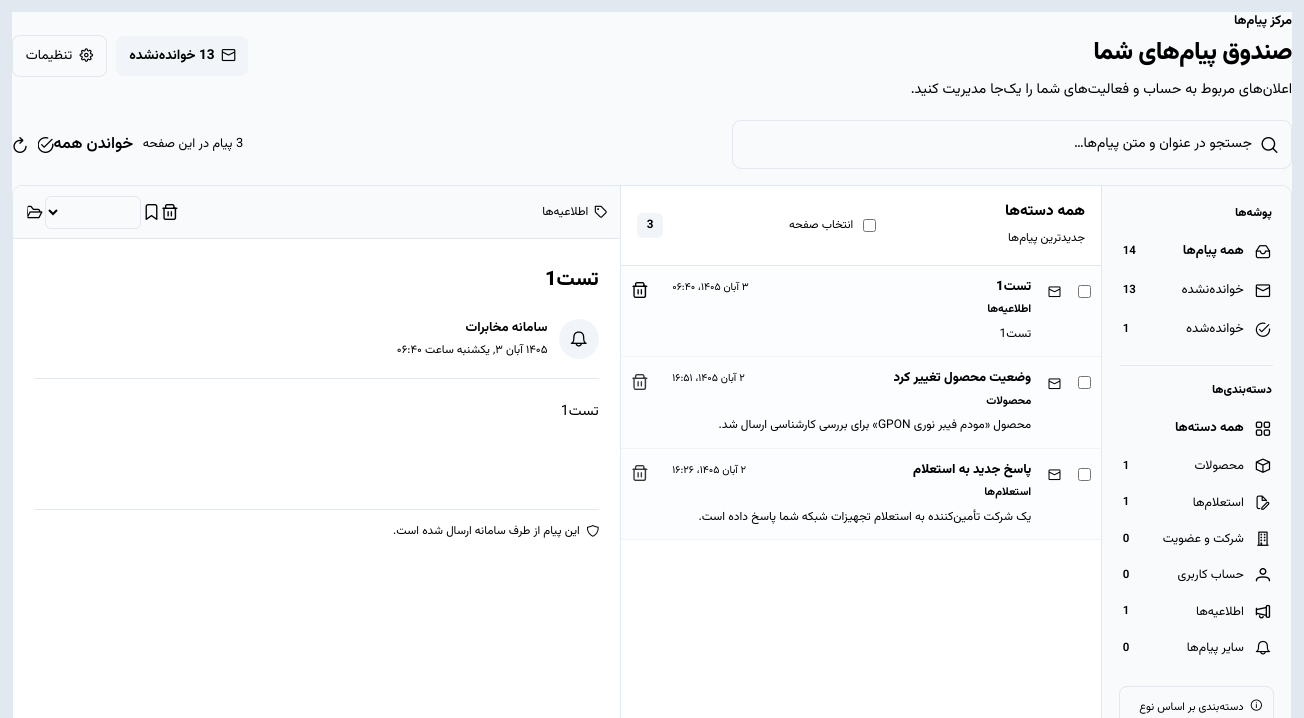
Test: Website notification inbox › renders messages from the paginated response, including legacy null types
Expected: the number of buttons with class "message-row" is 3, left=621, top=266, right=1101, bottom=357; left=621, top=357, right=1101, bottom=449; left=621, top=449, right=1101, bottom=540
Click the button with class "category-link" showing "محصولات 1": {"x": 1196, "y": 467} left=1112, top=448, right=1281, bottom=485
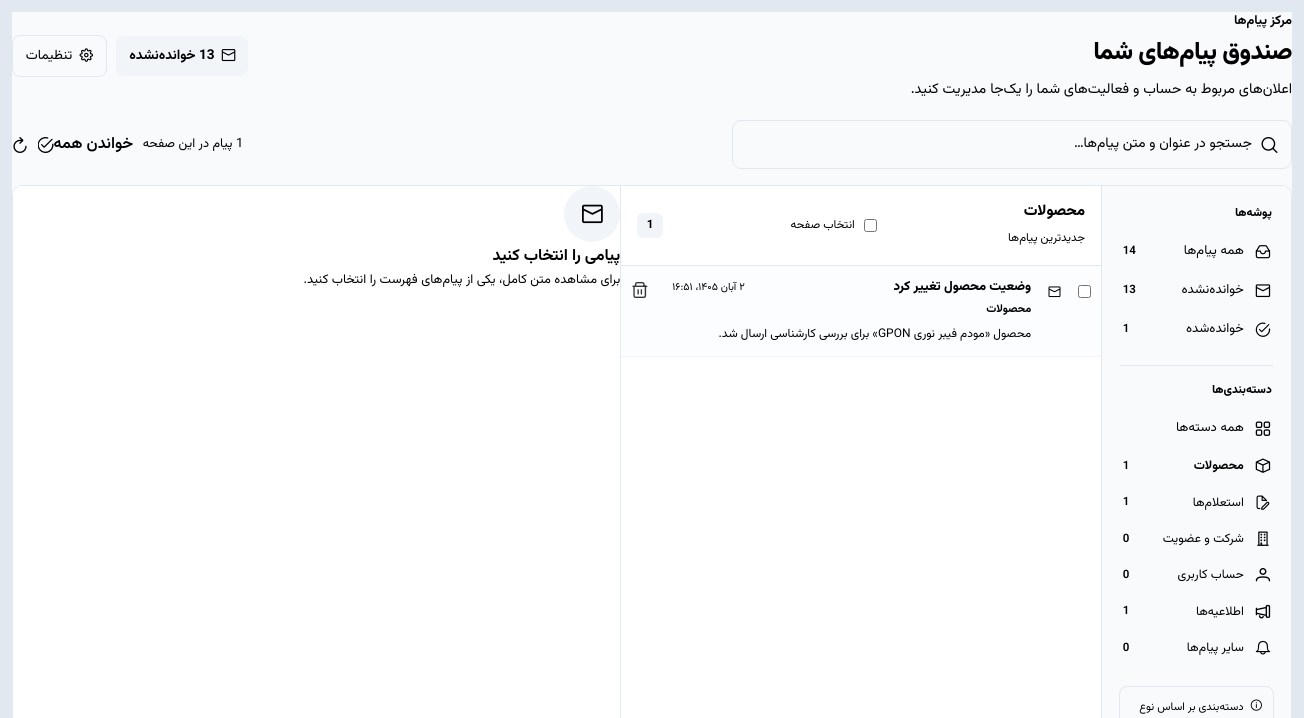
Expected: the button with class "message-row" shows "وضعیت محصول تغییر کرد", left=621, top=266, right=1101, bottom=357
Expected: the number of buttons with class "message-row" is 1, left=621, top=266, right=1101, bottom=357
